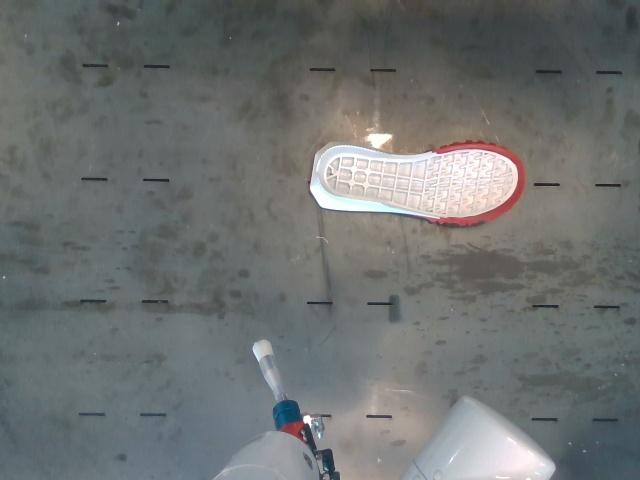shoes: (317, 144, 526, 221)
